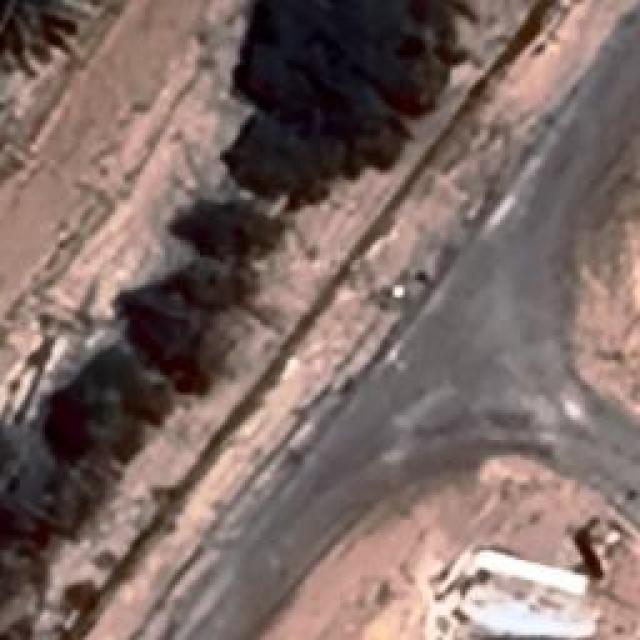PalmTree: (0, 0, 95, 62)
